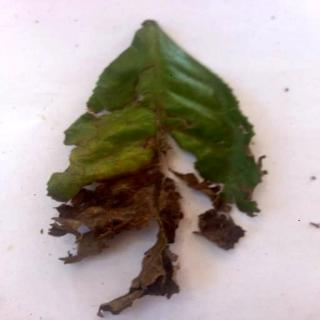Brown Blight: (47, 21, 269, 320)
